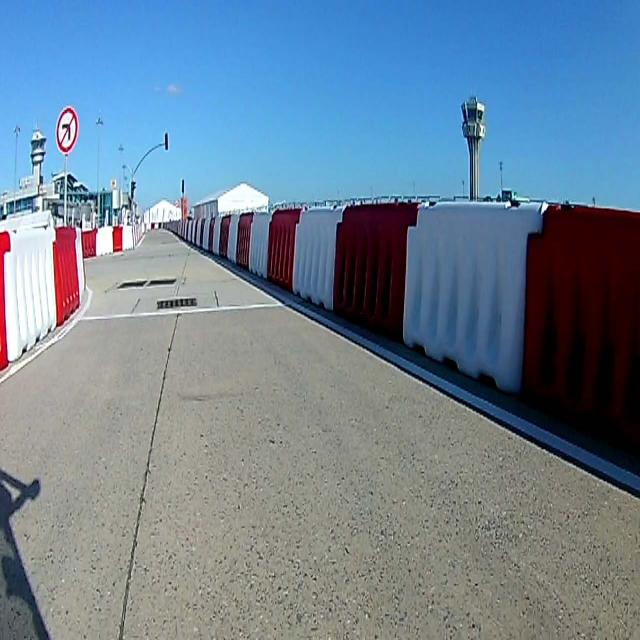soladonulmez: (53, 104, 81, 152)
